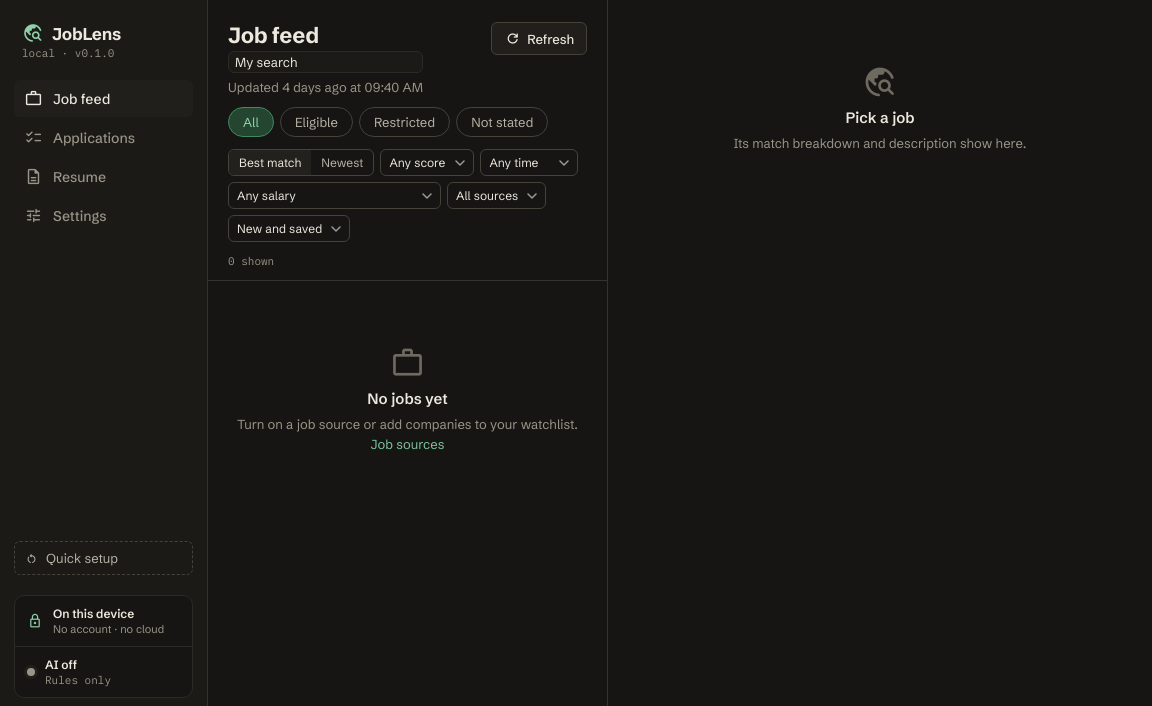
Test: Saved searches › renames, turns alerts off and deletes after confirming
Click the button "Settings".
click(104, 216)  # box [14,197,193,234]
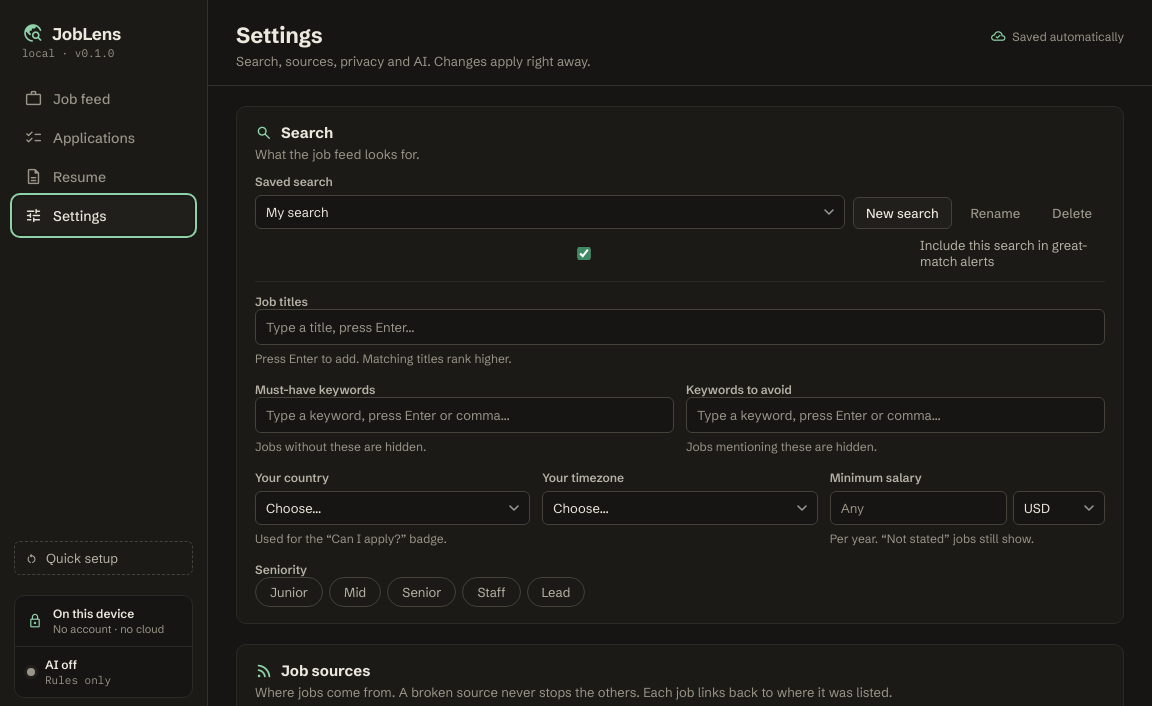
Click the button "Rename".
click(995, 213)  # box [958,197,1033,229]
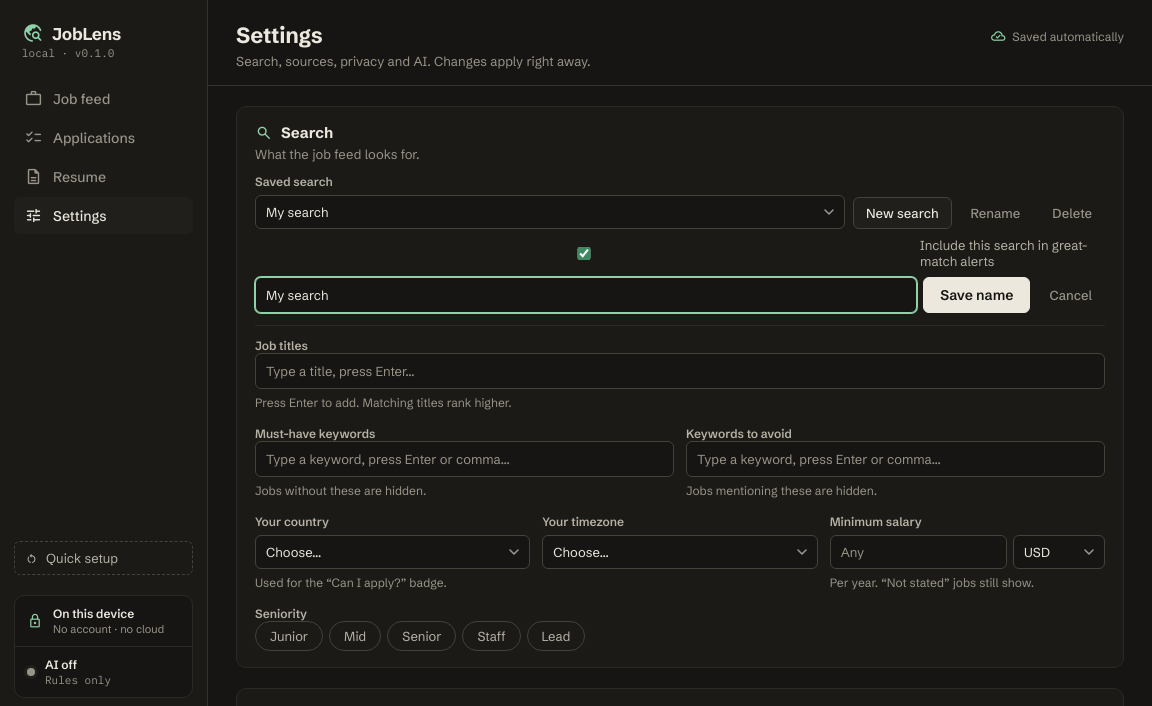
Replace the text in the field named "Search name" with "Frontend" at (586,295), box [255,277,917,313]
Then press Enter
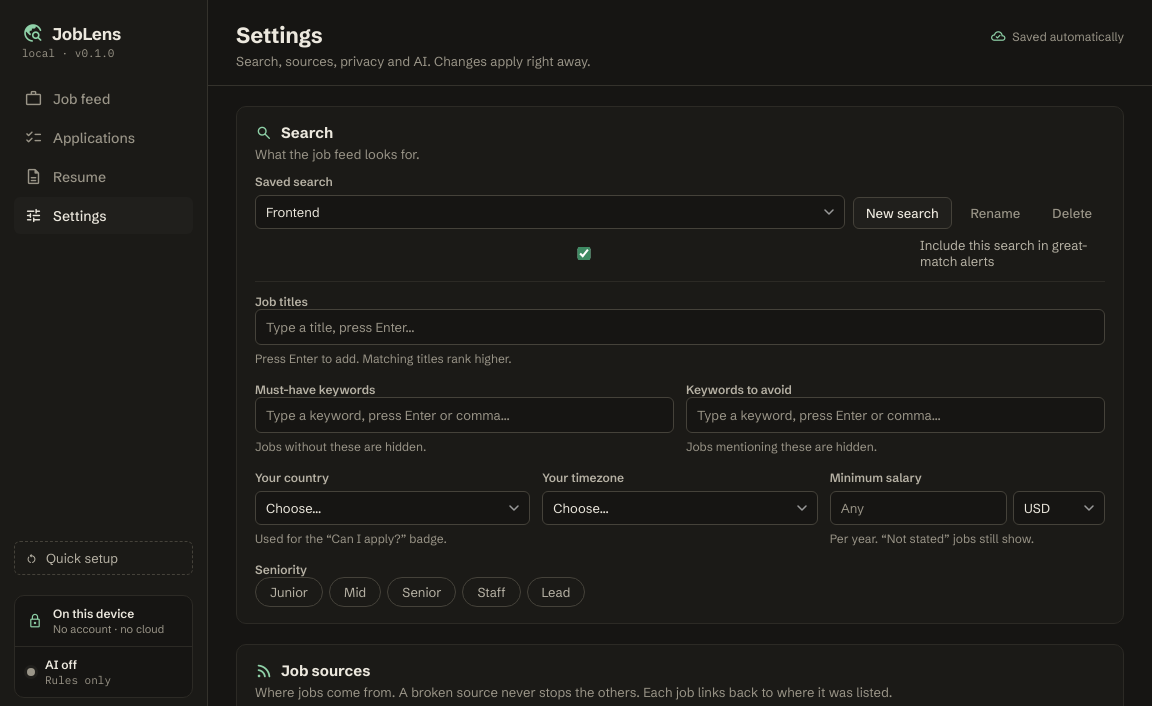
Click the checkbox labelled "Include this search in great-match alerts".
click(584, 253)  # box [259,246,909,260]
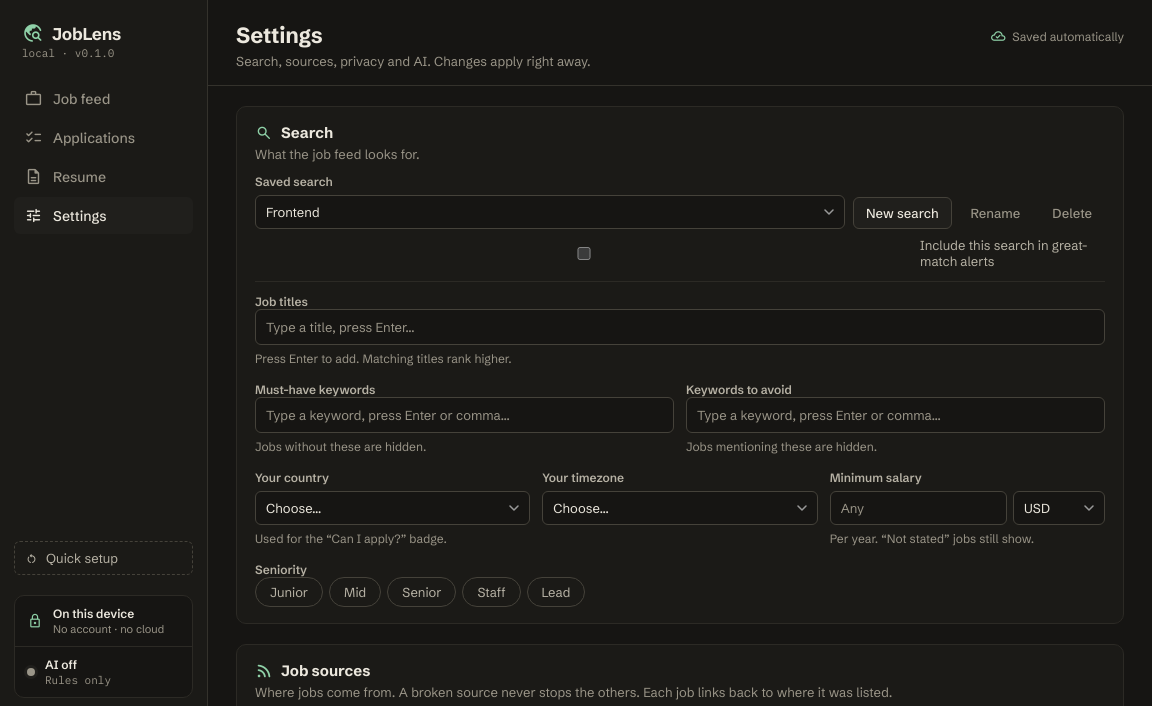
Click the button "Delete".
click(1072, 213)  # box [1039,197,1105,229]
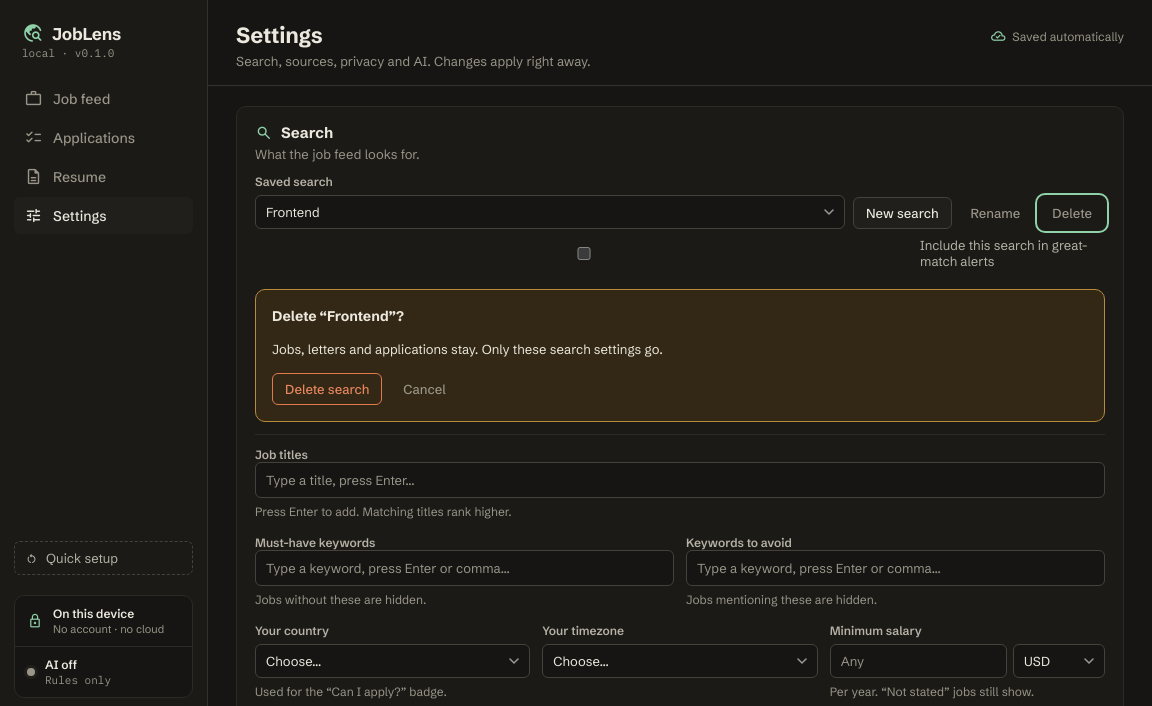
Click the button "Delete search".
click(327, 388)  # box [272,372,382,404]
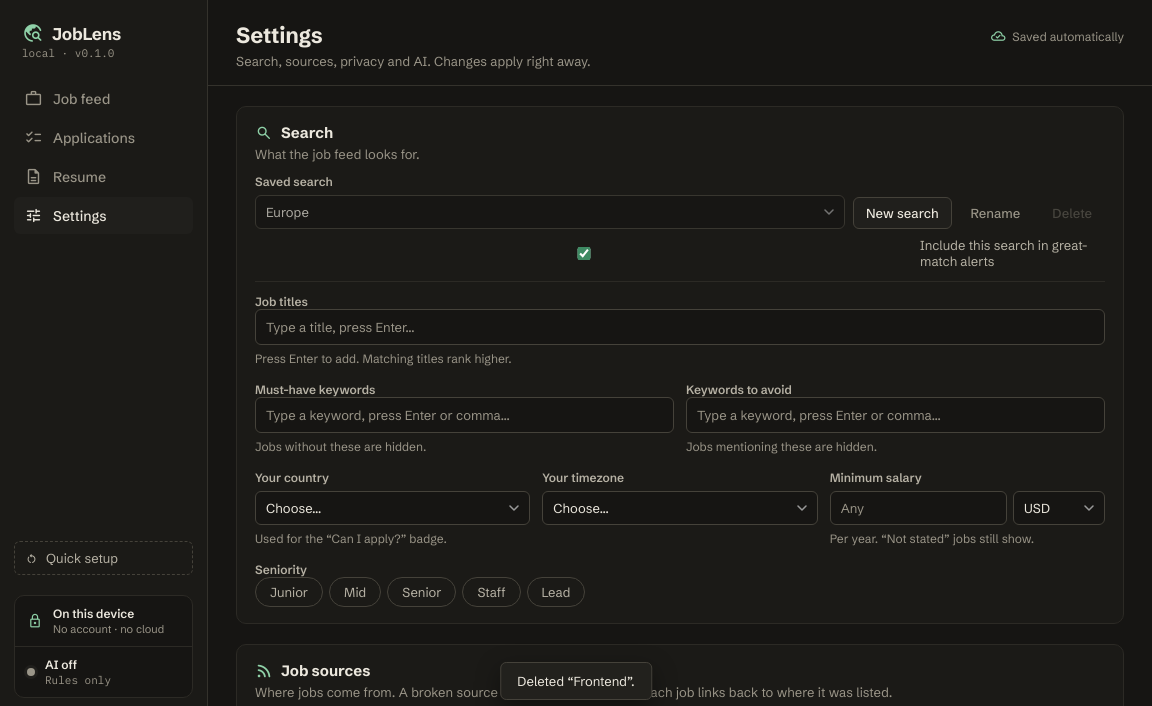
Expected: the button "Delete" is disabled, [1039,197,1105,229]
